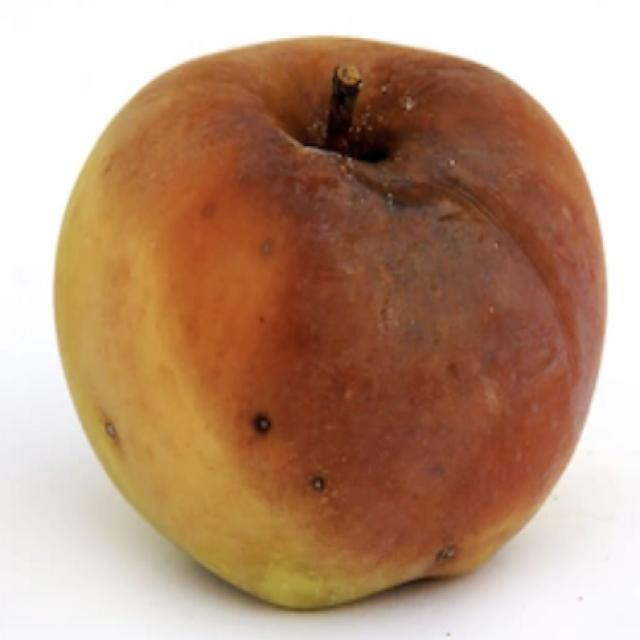Rotten: (52, 30, 610, 613)
